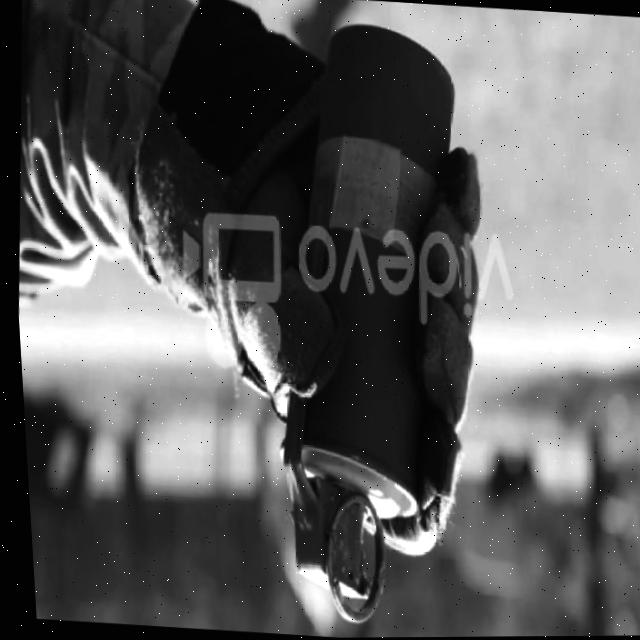grenade: (223, 0, 500, 639)
